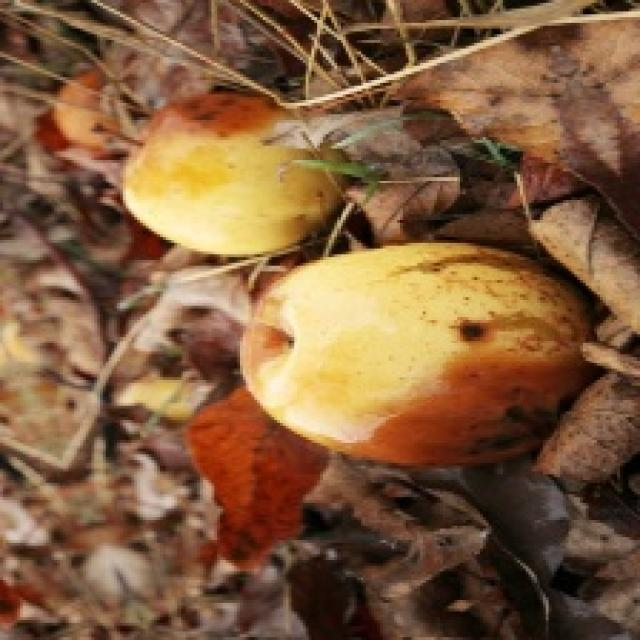rotten_apple: (251, 249, 588, 458), (127, 81, 336, 245)
